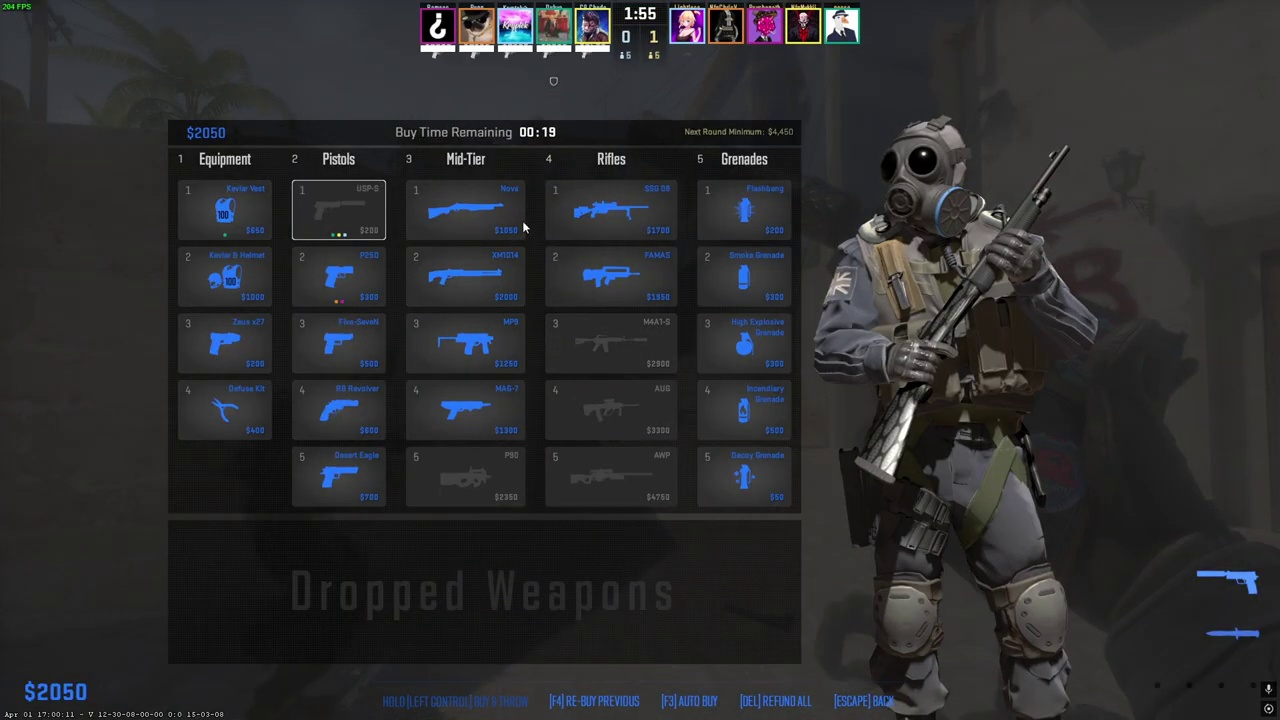CT: (857, 120, 1071, 719)
